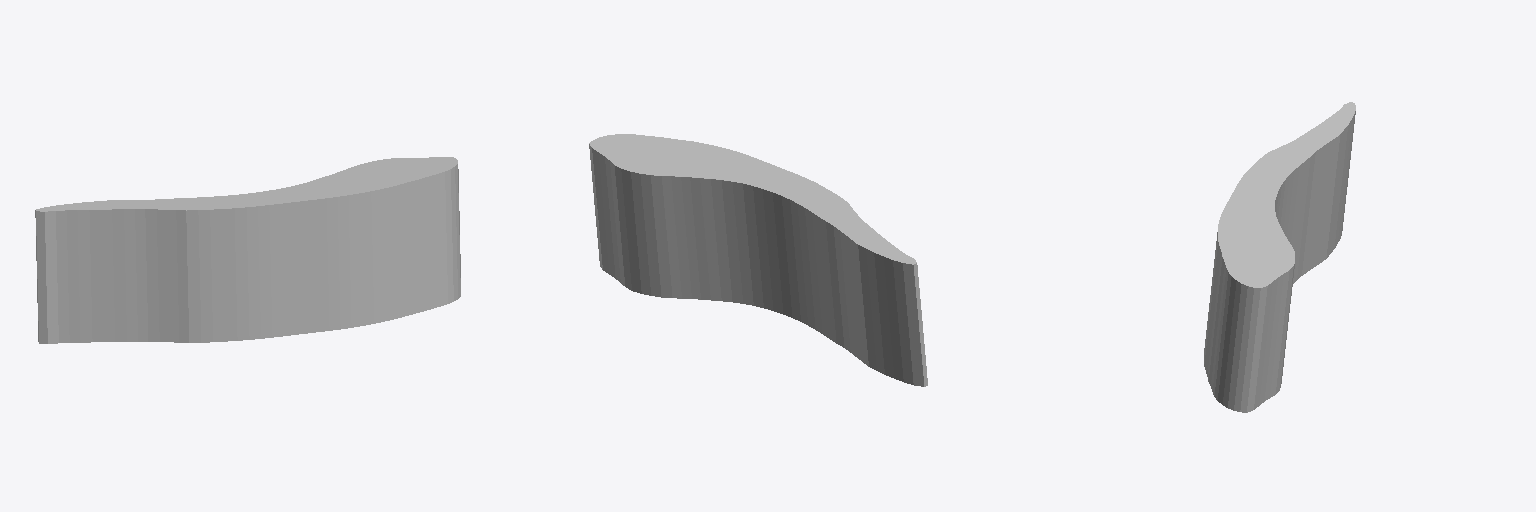
The model's file is tuna.obj.
The picture shows the model from 3 angles: view 1: azimuth 30°, elevation 25°; view 2: azimuth 150°, elevation 25°; view 3: azimuth 270°, elevation 25°; orthographic projection.
Size of the model in its own units: 1.23 by 0.4261 by 0.431.